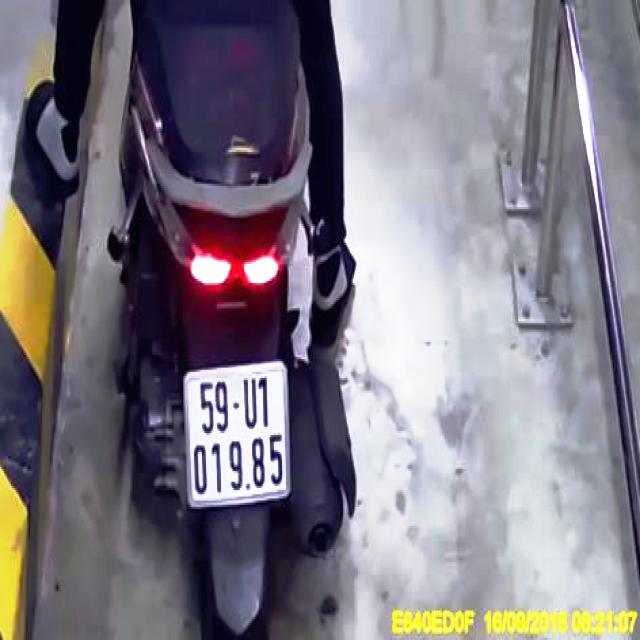license_plate: (185, 369, 291, 510)
